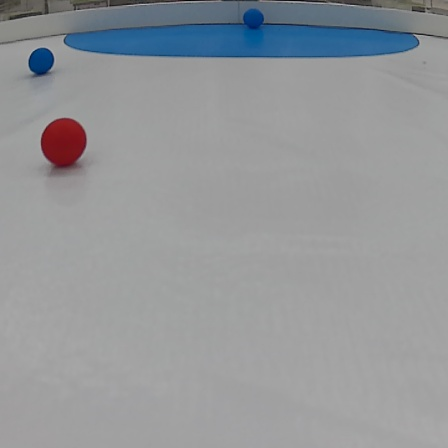blue: (21, 46, 55, 75), (240, 6, 268, 27)
blue_base: (61, 18, 424, 56)
red: (39, 116, 88, 167)
